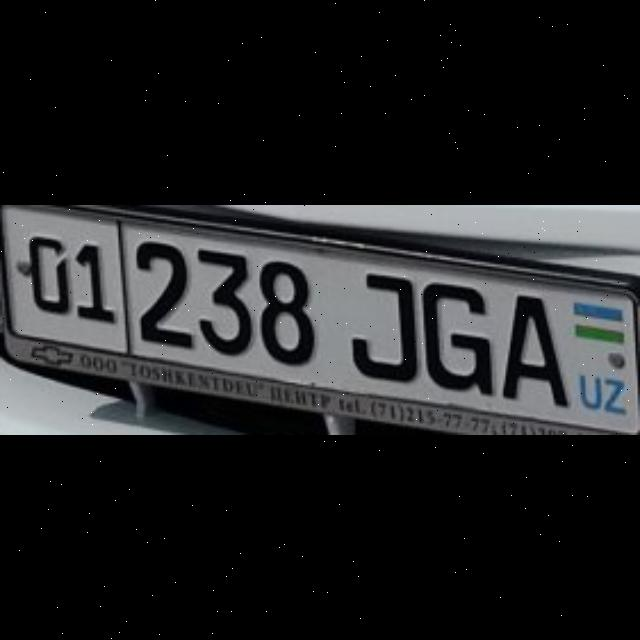0: (28, 234, 68, 312)
1: (73, 241, 114, 321)
2: (134, 237, 192, 349)
3: (196, 246, 250, 354)
8: (258, 258, 312, 362)
A: (499, 291, 567, 405)
G: (418, 280, 489, 392)
J: (351, 272, 415, 381)
